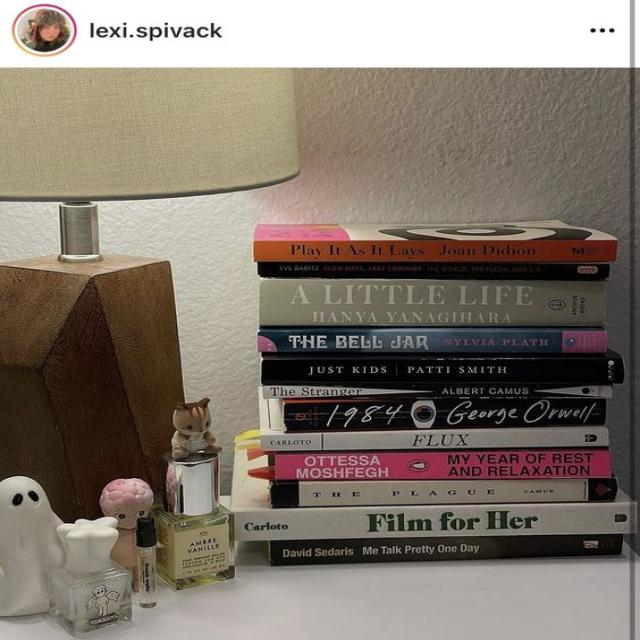book: (261, 281, 606, 327), (234, 502, 630, 539), (279, 393, 605, 433), (262, 351, 623, 384), (275, 448, 610, 481), (270, 536, 622, 565), (269, 479, 618, 507), (258, 328, 607, 353), (261, 426, 608, 451), (254, 238, 618, 260), (258, 258, 610, 278), (261, 385, 612, 399)
